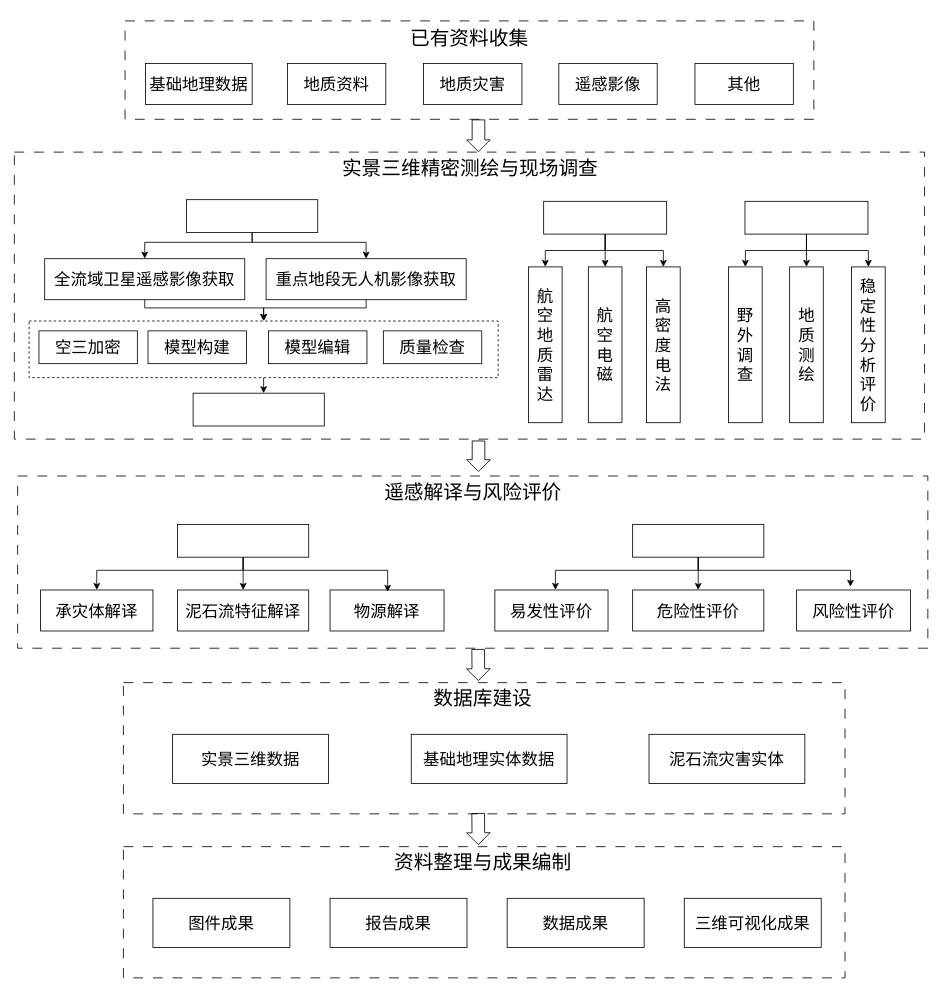
Some shapes in this 942 by 992 pixel diagram are drawn without their labels. Each missing label, with the centre of its shape:
"实景三维构建" goes at point (252, 215).
"实景三维模型" goes at point (258, 409).
"物探调查" goes at point (605, 217).
"现场调查" goes at point (806, 217).
"遥感解译" goes at point (243, 540).
"风险评价" goes at point (698, 540).
